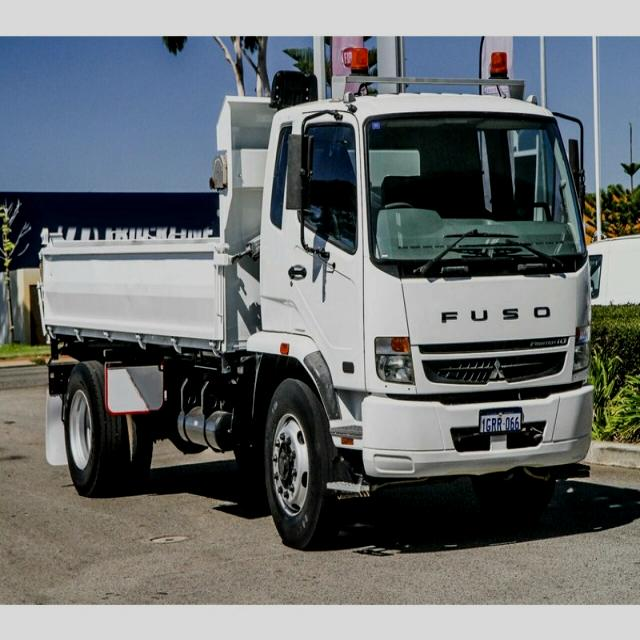truck: (40, 49, 598, 541)
